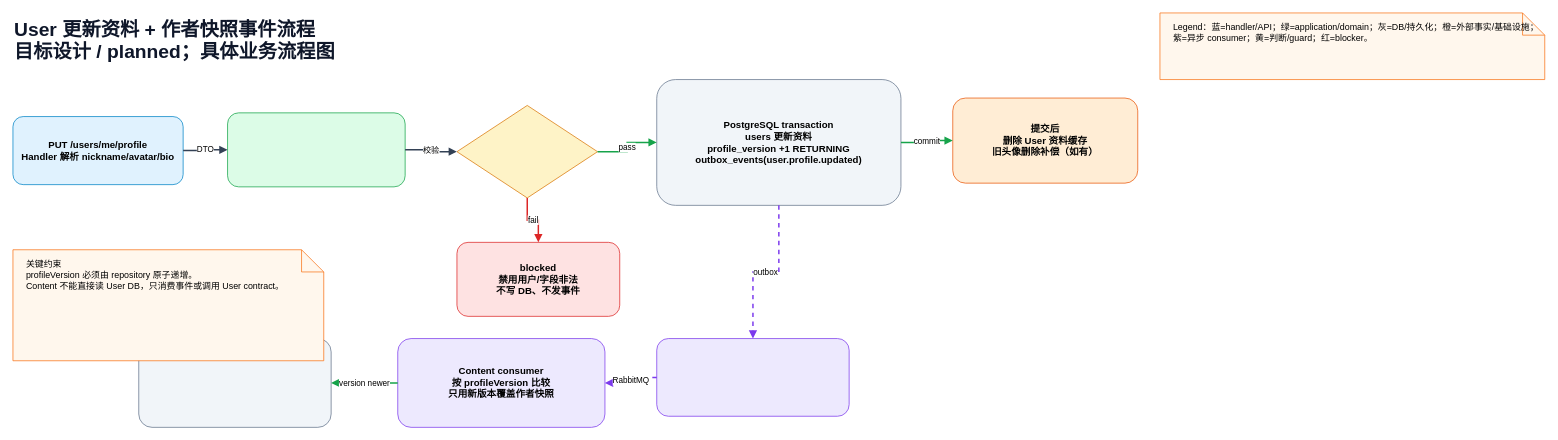
Some shapes in this 1558 by 440 pixel diagram are drawn without their labels. Here are the shapes that lost their labels. From the top down, the centre of each, then its label:
the point at 316,149: UpdateProfile application 加载当前用户和 command
the point at 527,151: 用户是否 active 且字段合法？
the point at 234,382: content author snapshot posts 作者展示快照 允许最终一致
the point at 752,377: Outbox dispatcher 发布 user.profile.updated
